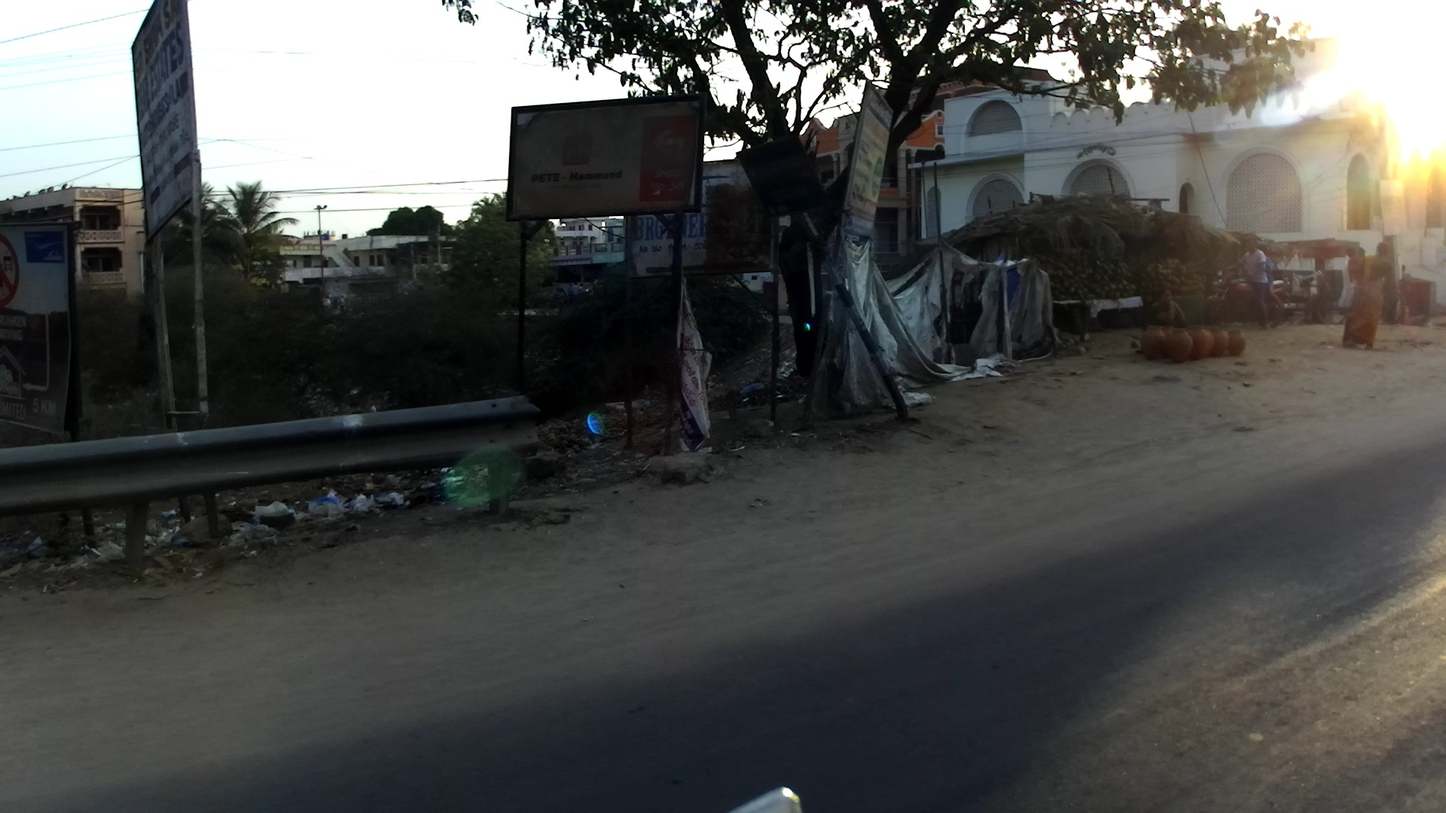motorcycle: (1207, 266, 1292, 332)
person: (1341, 239, 1394, 355), (1339, 233, 1366, 299)
rider: (1234, 231, 1276, 327)
